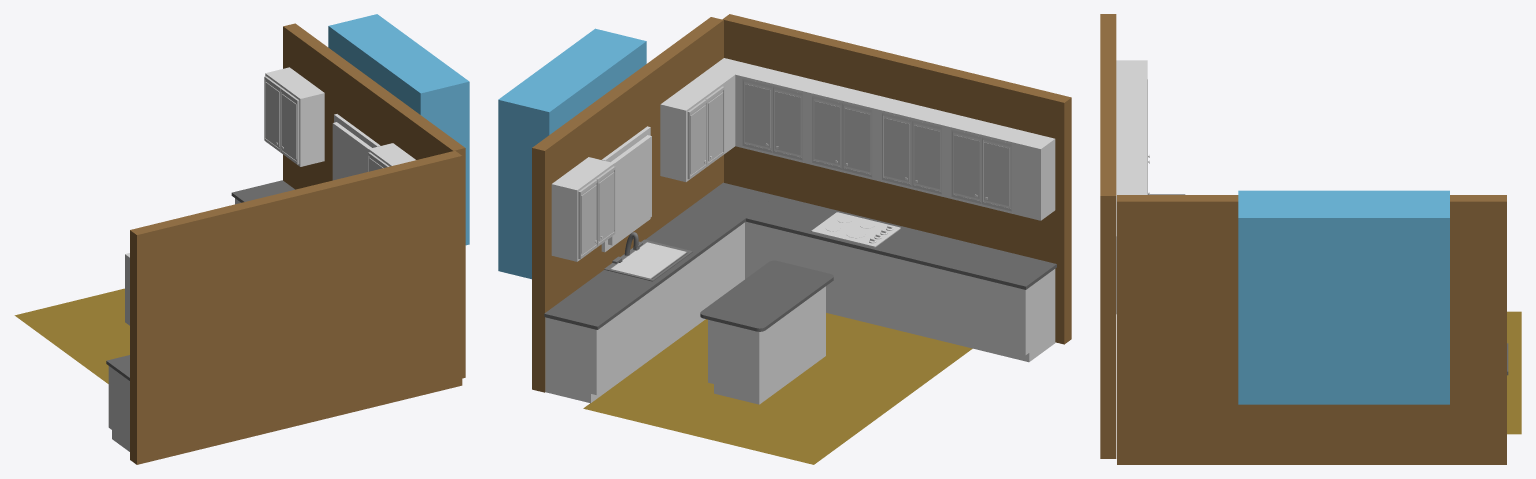
Rendered from Kitchen Ver03.fbx.
The picture shows the model from 3 angles, left to right: view 1: azimuth 30°, elevation 25°; view 2: azimuth 150°, elevation 25°; view 3: azimuth 270°, elevation 25°; orthographic projection. The views are drawn at different scales.
Visible parts, largest first — view 1: Cube.012, Cube.011, Cube.054, Plane, Cube.013, Cube.014, Cube.003, Cube.023, Cube.022, Cube.004, Cube.015; view 2: Cube.012, Plane, Cube.011, Cube.003, Cube.016, Cube.002, Cube.054, Cube.004, Cube.005, Cube, Cube.001, Cube.015 (+18 smaller); view 3: Cube.011, Cube.054, Cube.012, Cube.016, Plane.
Part boxes in pixels (x1=…): Cube.012: x1=130, y1=151, x2=462, y2=464; Cube.011: x1=283, y1=23, x2=465, y2=378; Cube.054: x1=328, y1=14, x2=469, y2=245; Plane: x1=14, y1=288, x2=129, y2=383; Cube.013: x1=265, y1=67, x2=324, y2=166; Cube.014: x1=332, y1=122, x2=371, y2=180; Cube.003: x1=108, y1=366, x2=129, y2=451; Cube.023: x1=281, y1=88, x2=299, y2=164; Cube.022: x1=264, y1=76, x2=282, y2=152; Cube.004: x1=231, y1=180, x2=294, y2=202; Cube.015: x1=368, y1=143, x2=415, y2=166; Cube.012: x1=722, y1=14, x2=1071, y2=344; Plane: x1=583, y1=313, x2=972, y2=464; Cube.011: x1=532, y1=17, x2=723, y2=392; Cube.003: x1=745, y1=221, x2=1055, y2=362; Cube.016: x1=735, y1=64, x2=1055, y2=220; Cube.002: x1=545, y1=222, x2=744, y2=403; Cube.054: x1=498, y1=28, x2=646, y2=279; Cube.004: x1=544, y1=182, x2=776, y2=329; Cube.005: x1=746, y1=196, x2=1056, y2=289; Cube: x1=708, y1=286, x2=825, y2=404; Cube.001: x1=700, y1=260, x2=833, y2=331; Cube.015: x1=660, y1=58, x2=749, y2=181; Cube.011: x1=1117, y1=195, x2=1506, y2=464; Cube.054: x1=1238, y1=190, x2=1449, y2=404; Cube.012: x1=1100, y1=14, x2=1116, y2=458; Cube.016: x1=1116, y1=60, x2=1147, y2=314; Plane: x1=1507, y1=311, x2=1521, y2=434.
Size of the model in its own units: 4908 by 3211 by 3978.
